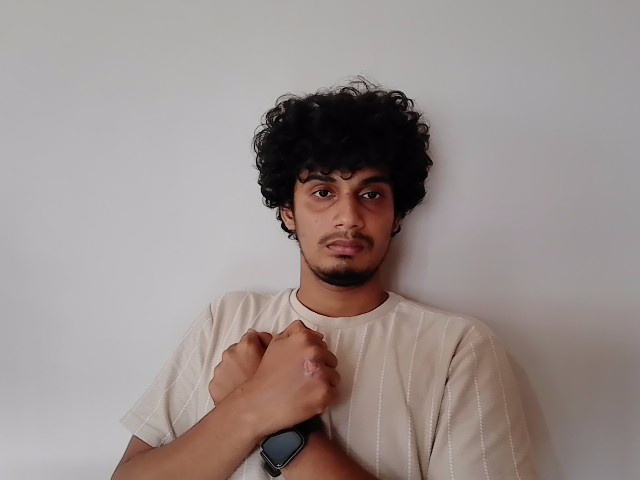love: (203, 319, 342, 459)
